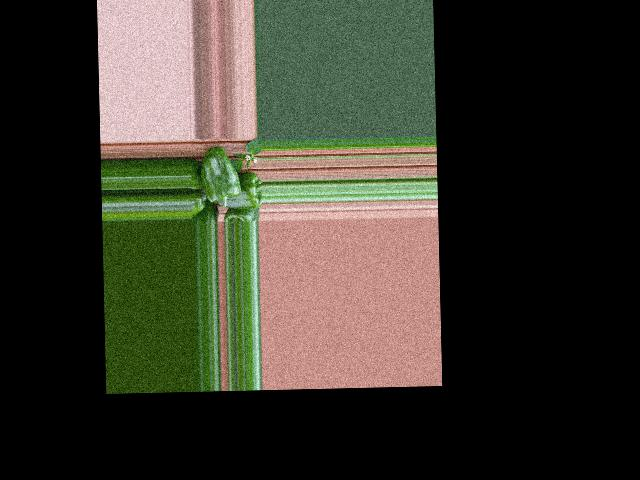bell_pepper: (189, 193, 208, 219)
